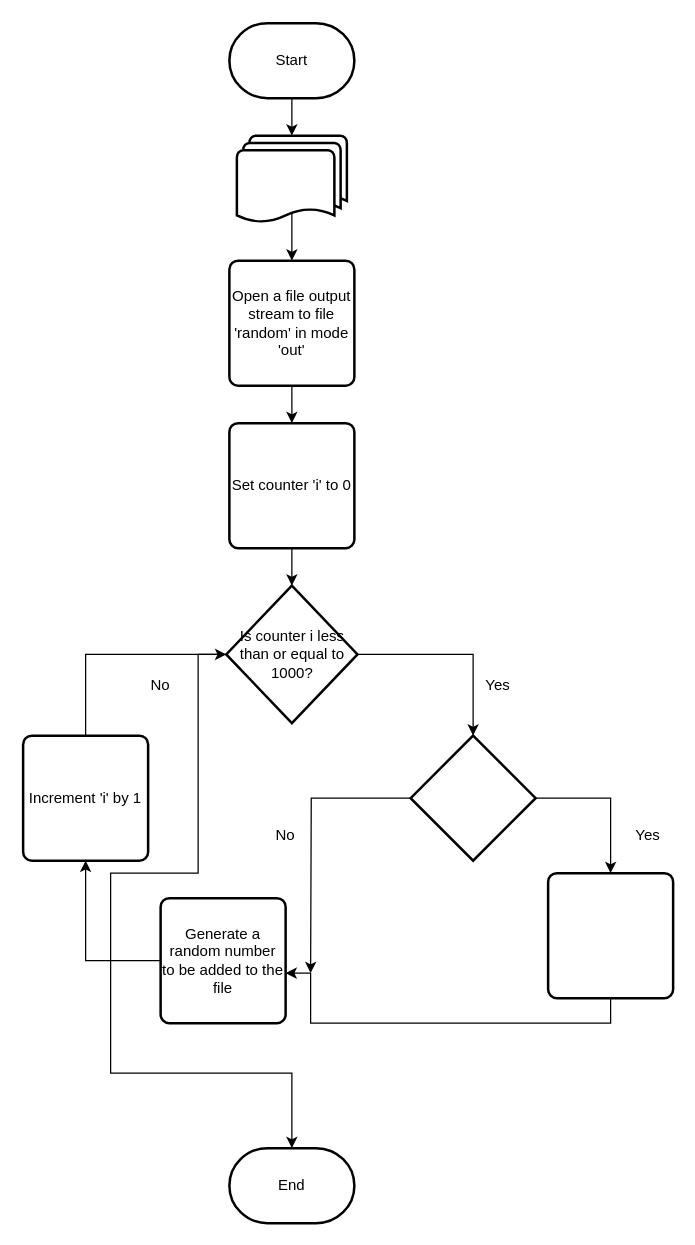
This 695x1245 diagram has some shape labels left out. Each missing label, with the box of its shape:
Add a new line to the file: (546, 871, 674, 999)
Display program instructions: (235, 134, 348, 224)
Is 'i' a multiple of 10?: (409, 734, 536, 861)
